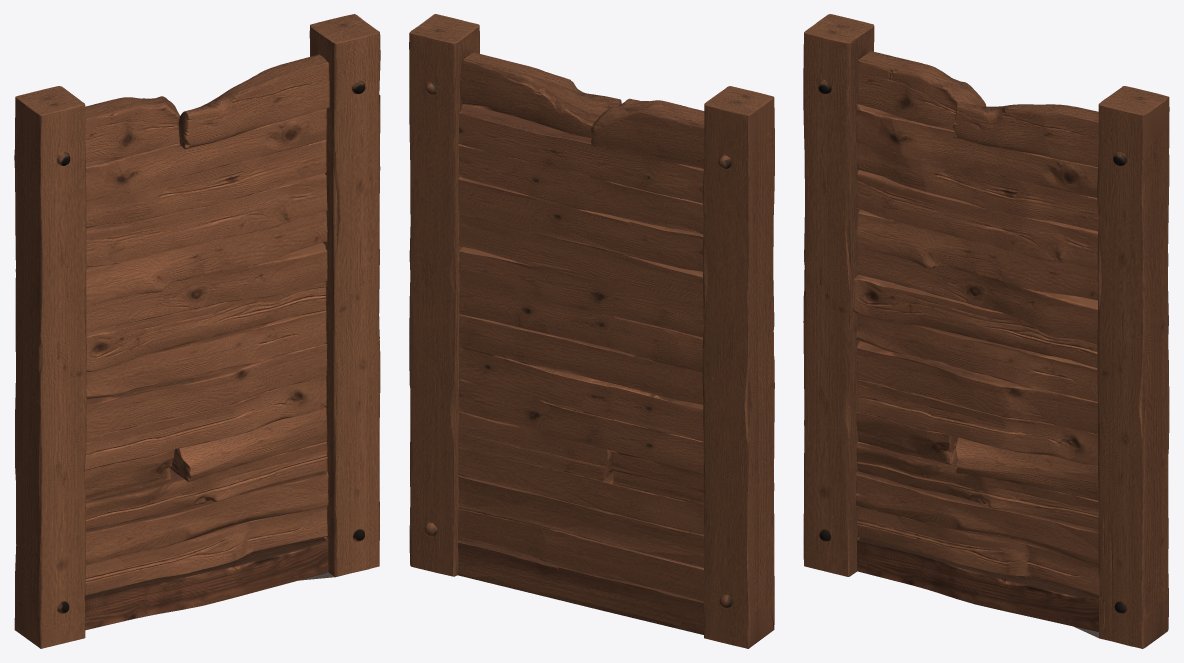
Rendered from trench_revetment_panel.glb.
3 views of the same model, side by side, from view 1: azimuth 30°, elevation 25°; view 2: azimuth 150°, elevation 25°; view 3: azimuth 330°, elevation 25° (orthographic).
Size of the model in its own units: 1.27 by 1.9 by 0.2216.
Materials: 1 (1 with a texture image).
